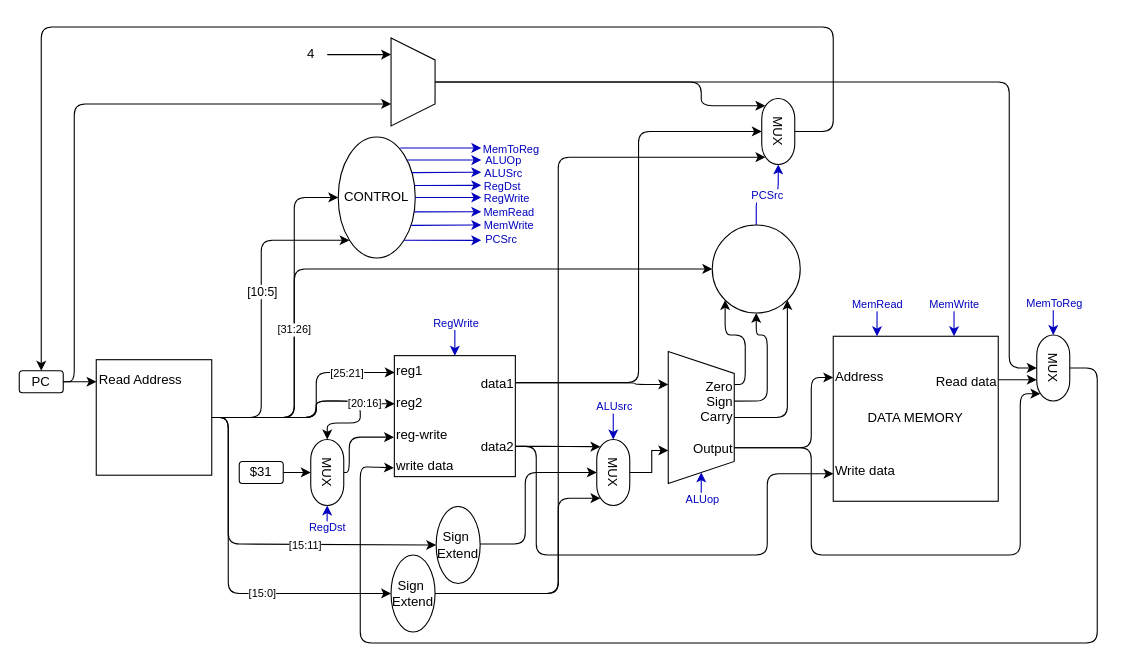
Image size: 1125x671. Some labels were removed from this diagram. The box of each missing label's shape, as (x1, y1, x2, y2) in pixels:
ADD: (390, 37, 435, 126)
ALU: (667, 350, 734, 483)
BRANCH CONTROL: (711, 224, 800, 313)
INSTRUCTION MEMORY: (95, 359, 212, 475)
REGISTER FILE: (393, 355, 515, 477)
